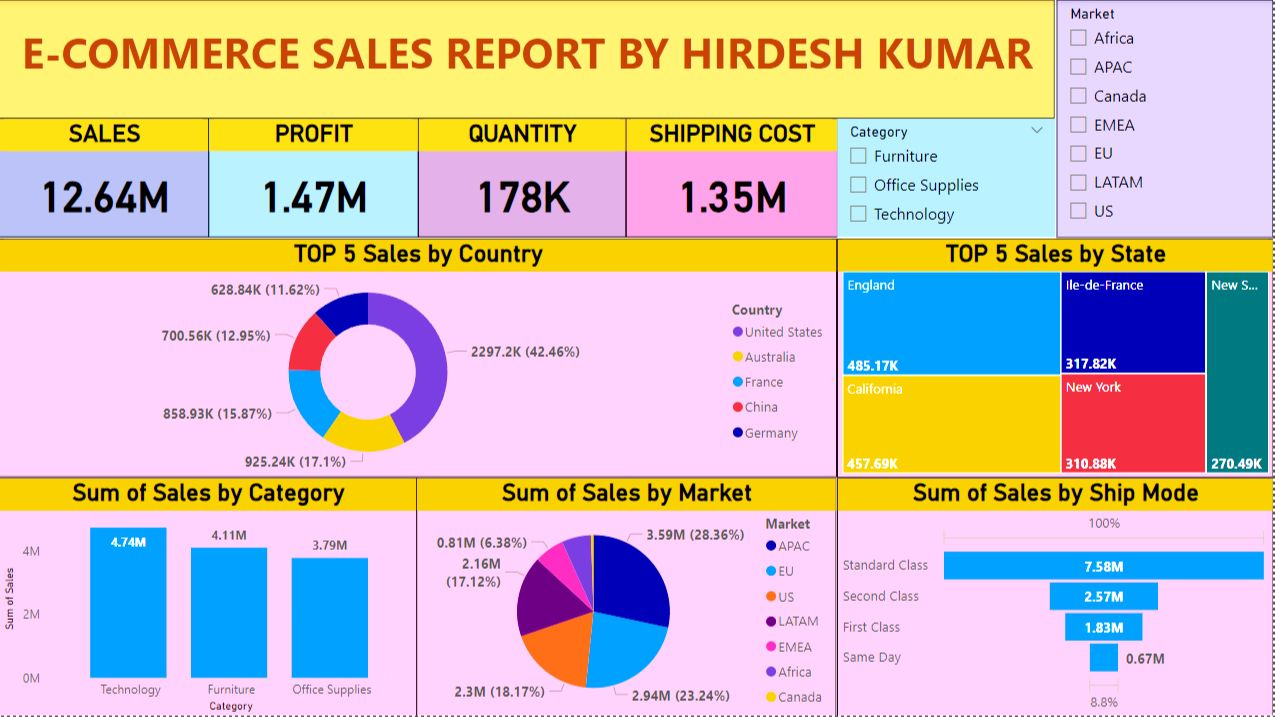

Layout of this report page (visuals, bound fields, positions):
{"tool":"powerbi","page":{"name":"Page 1","canvas":[1280,720],"ordinal":0},"visuals":[{"type":"columnChart","fields":{"Category":["Orders.Category"],"Y":["Sum(Orders.Sales)"]},"box":[0,480,420,240],"z":0},{"type":"pieChart","fields":{"Category":["Orders.Market"],"Y":["Sum(Orders.Sales)"]},"box":[420,480,421.8,240],"z":1000},{"type":"funnel","fields":{"Category":["Orders.Ship Mode"],"Y":["Sum(Orders.Sales)"]},"box":[841.8,480,438.2,240],"z":2000},{"type":"donutChart","title":"TOP 5 Sales by Country","fields":{"Category":["Orders.Country"],"Y":["Sum(Orders.Sales)"]},"box":[0,239.6,841.7,239.6],"z":3000},{"type":"treemap","title":"TOP 5 Sales by State","fields":{"Group":["Orders.State"],"Values":["Sum(Orders.Sales)"]},"box":[841.8,240,438.2,240],"z":4000},{"type":"card","title":"SALES","fields":{"Values":["Sum(Orders.Sales)"]},"box":[0,119.6,210.7,119.6],"z":5000},{"type":"card","title":"PROFIT","fields":{"Values":["Sum(Orders.Profit)"]},"box":[210.7,119.6,210.7,119.6],"z":6000},{"type":"card","title":"QUANTITY","fields":{"Values":["Sum(Orders.Quantity)"]},"box":[421.4,119.6,208.9,119.6],"z":7000},{"type":"card","title":"SHIPPING COST","fields":{"Values":["Sum(Orders.Shipping Cost)"]},"box":[630.4,119.6,212.5,119.6],"z":8000},{"type":"slicer","fields":{"Values":["Orders.Category"]},"box":[842.9,119.6,219.6,119.6],"z":9000},{"type":"slicer","fields":{"Values":["Orders.Market"]},"box":[1062.5,0,217.9,239.3],"z":10000},{"type":"textbox","box":[0,0,1060.7,119.6],"z":11000}]}

Visuals, with their boxes in screenshot pixels (x1, y1, x2, y2), scaled from the page's 1280x720 canvas onto the 1275x717 screenshot:
columnChart - Orders.Category x Sum(Orders.Sales): detection(0, 478, 418, 716)
pieChart - Orders.Market x Sum(Orders.Sales): detection(418, 478, 839, 716)
funnel - Orders.Ship Mode x Sum(Orders.Sales): detection(839, 478, 1274, 716)
"TOP 5 Sales by Country" donutChart: detection(0, 239, 838, 477)
"TOP 5 Sales by State" treemap: detection(839, 239, 1274, 478)
"SALES" card: detection(0, 119, 210, 238)
"PROFIT" card: detection(210, 119, 420, 238)
"QUANTITY" card: detection(420, 119, 628, 238)
"SHIPPING COST" card: detection(628, 119, 840, 238)
slicer - Orders.Category: detection(840, 119, 1058, 238)
slicer - Orders.Market: detection(1058, 0, 1274, 238)
textbox: detection(0, 0, 1057, 119)
